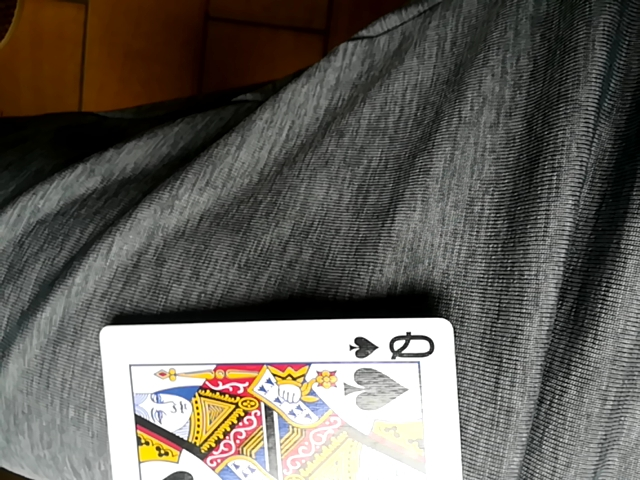ht q: (98, 312, 456, 477)
